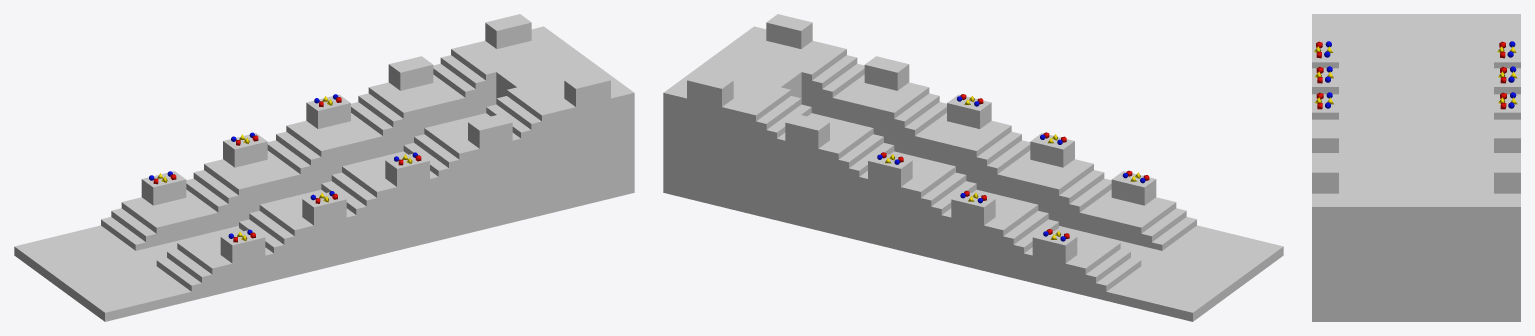
The model's file is Looby.fbx.
3 views of the same model, side by side, from view 1: azimuth 30°, elevation 25°; view 2: azimuth 150°, elevation 25°; view 3: azimuth 270°, elevation 25° (orthographic). The views are drawn at different scales.
Visible parts, largest first — view 1: Cube; view 2: Cube; view 3: Cube.
Boxes of the visible parts, x1=… form: Cube: x1=14, y1=14, x2=634, y2=321; Cube: x1=663, y1=14, x2=1283, y2=321; Cube: x1=1312, y1=14, x2=1520, y2=321.
Size of the model in its own units: 3048 by 650 by 905.
